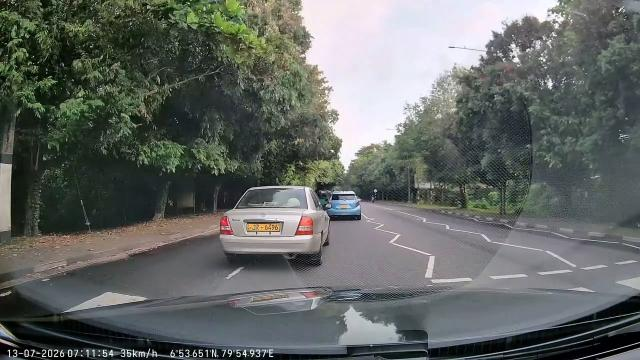number plate: (244, 221, 288, 239)
